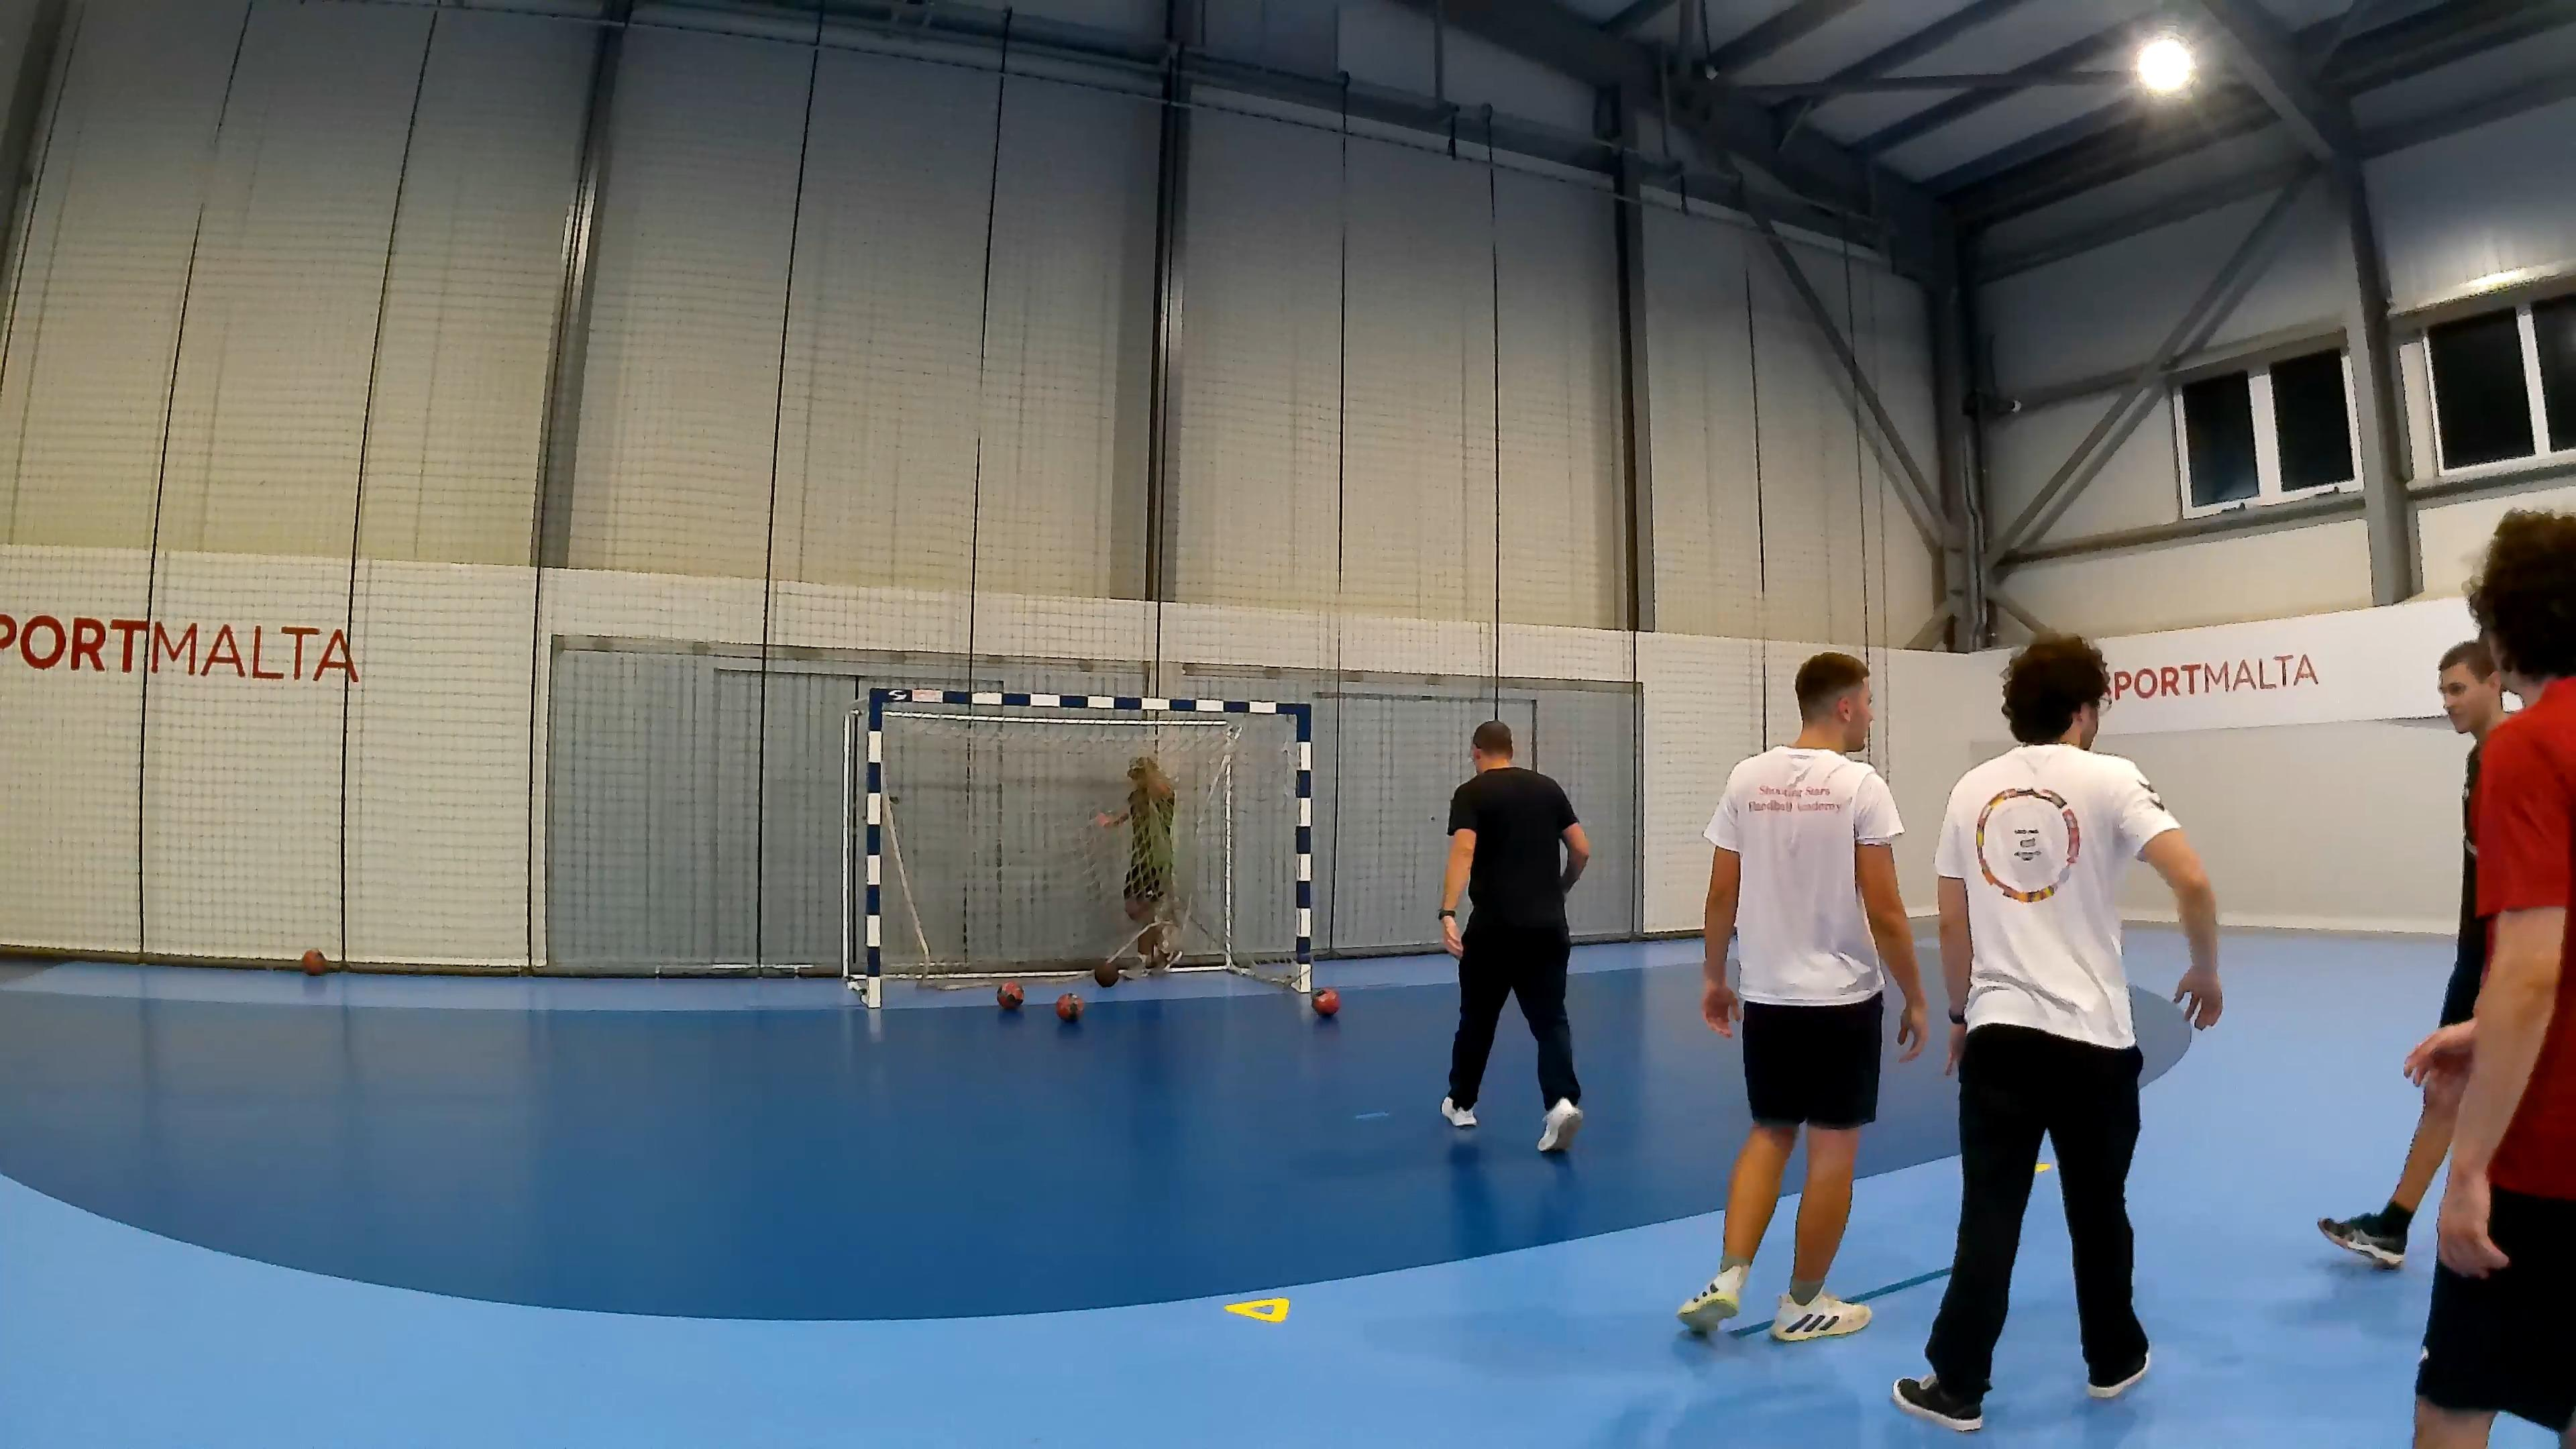handball: (1054, 991, 1083, 1021), (1311, 987, 1339, 1016), (1092, 957, 1118, 987), (996, 980, 1023, 1008)
